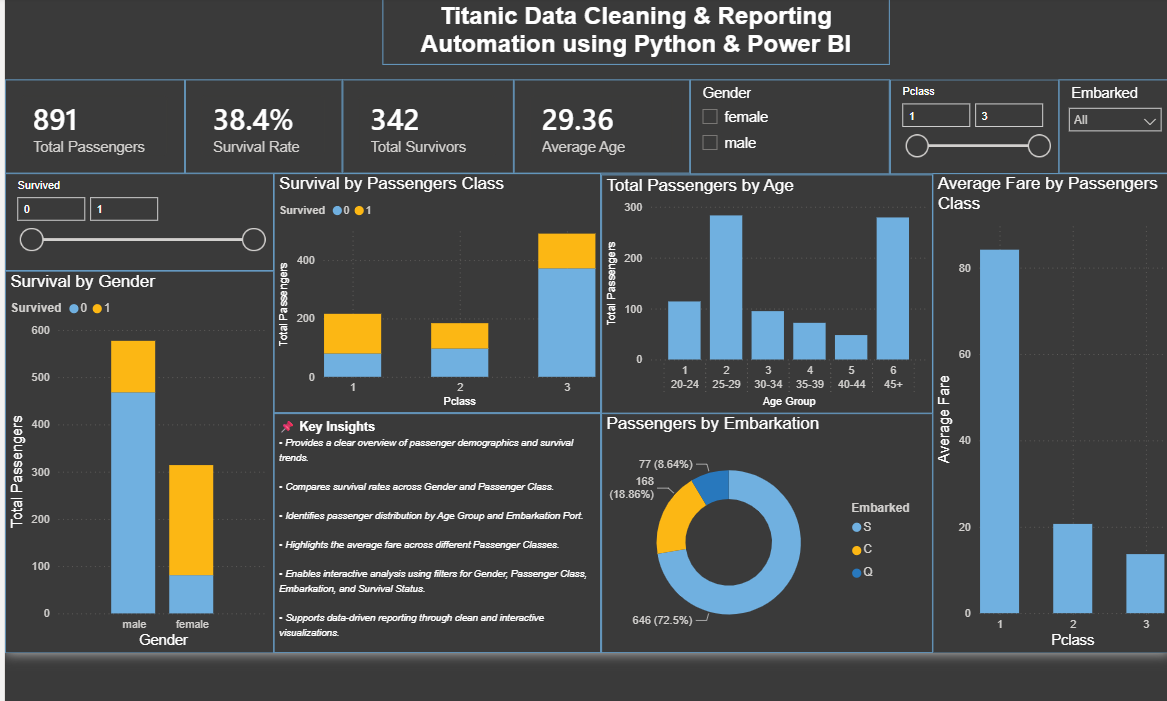

This screenshot's page, from the dashboard's own definition file:
{"tool":"powerbi","page":{"name":"Page 1","canvas":[1280,720],"ordinal":0},"visuals":[{"type":"cardVisual","fields":{"Data":["Titanic_Cleaned i.Total Passenger"]},"box":[0,90.6,197.6,102.9],"z":0},{"type":"cardVisual","fields":{"Data":["Titanic_Cleaned i.Total Survived"]},"box":[370.5,90.6,188,102.9],"z":1000},{"type":"cardVisual","fields":{"Data":["Titanic_Cleaned i.Total Survivor rate"]},"box":[197.6,90.6,172.9,102.9],"z":2000},{"type":"cardVisual","fields":{"Data":["Titanic_Cleaned i.Average Age"]},"box":[558.5,90.6,193.5,102.9],"z":3000},{"type":"columnChart","title":"Survival by Gender","fields":{"Category":["Titanic_Cleaned i.Sex"],"Series":["Titanic_Cleaned i.Survived"],"Y":["CountNonNull(Titanic_Cleaned i.PassengerId)"]},"box":[0,300.5,295,419.9],"z":4000},{"type":"columnChart","title":"Survival by Passengers Class","fields":{"Category":["Titanic_Cleaned i.Pclass"],"Series":["Titanic_Cleaned i.Survived"],"Y":["CountNonNull(Titanic_Cleaned i.PassengerId)"]},"box":[295,193.5,359.5,263.5],"z":5000},{"type":"donutChart","title":"Passengers by Embarkation","fields":{"Category":["Titanic_Cleaned i.Embarked"],"Y":["CountNonNull(Titanic_Cleaned i.PassengerId)"]},"box":[654.5,456.9,363.6,263.5],"z":6000},{"type":"slicer","fields":{"Values":["Titanic_Cleaned i.Sex"]},"box":[752,90.6,219.6,104.3],"z":7000},{"type":"slicer","fields":{"Values":["Titanic_Cleaned i.Pclass"]},"box":[971.5,90.6,185.2,104.3],"z":8000},{"type":"slicer","fields":{"Values":["Titanic_Cleaned i.Embarked"]},"box":[1156.8,90.6,123.5,102.9],"z":9000},{"type":"slicer","fields":{"Values":["Titanic_Cleaned i.Survived"]},"box":[0,193.5,295,107],"z":10000},{"type":"clusteredColumnChart","title":"Average Fare by Passengers Class","fields":{"Category":["Titanic_Cleaned i.Pclass"],"Y":["Titanic_Cleaned i.Average of Fare"]},"box":[1018.2,193.5,262.1,526.9],"z":11000},{"type":"clusteredColumnChart","title":"Total Passengers by Age","fields":{"Y":["Titanic_Cleaned i.Total Passenger"],"Category":["Titanic_Cleaned i.Age Bins","Titanic_Cleaned i.Age Bin Sort"]},"box":[654.5,194.9,363.6,262.1],"z":12000},{"type":"textbox","box":[295,456.9,359.5,263.5],"z":13000},{"type":"textbox","box":[414.4,0,557.1,74.1],"z":15000}]}

Visuals, with their boxes in screenshot pixels (x1, y1, x2, y2):
cardVisual - Titanic_Cleaned i.Total Passenger: 3:84:181:177
cardVisual - Titanic_Cleaned i.Total Survived: 336:84:505:177
cardVisual - Titanic_Cleaned i.Total Survivor rate: 181:84:336:177
cardVisual - Titanic_Cleaned i.Average Age: 505:84:679:177
"Survival by Gender" columnChart: 3:273:268:651
"Survival by Passengers Class" columnChart: 268:177:592:414
"Passengers by Embarkation" donutChart: 592:414:918:651
slicer - Titanic_Cleaned i.Sex: 679:84:877:178
slicer - Titanic_Cleaned i.Pclass: 877:84:1043:178
slicer - Titanic_Cleaned i.Embarked: 1043:84:1154:177
slicer - Titanic_Cleaned i.Survived: 3:177:268:273
"Average Fare by Passengers Class" clusteredColumnChart: 919:177:1154:651
"Total Passengers by Age" clusteredColumnChart: 592:178:918:414
textbox: 268:414:592:651
textbox: 376:3:877:70
